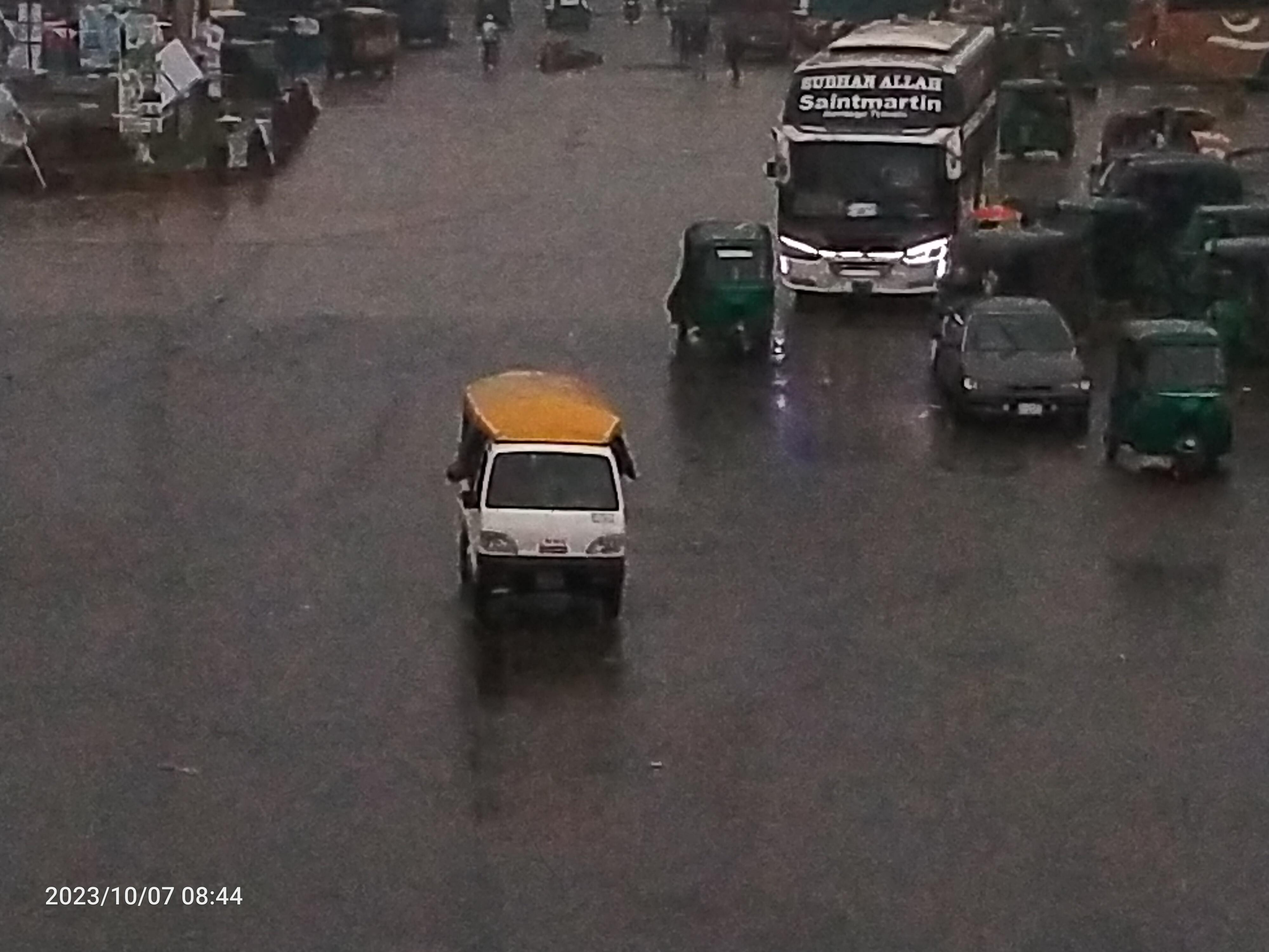Bus: (746, 3, 1011, 321), (1097, 0, 1269, 98)
Car: (403, 335, 690, 642), (904, 260, 1112, 471)
